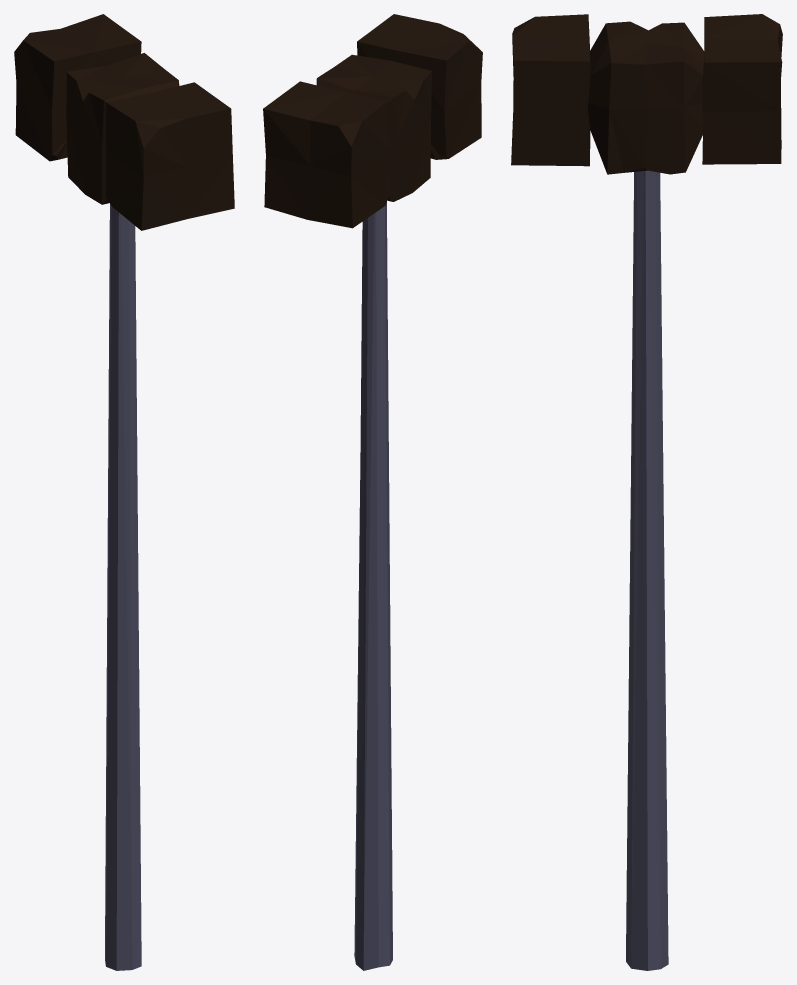
File: SFFA_Hammer_001.fbx
3 views of the same model, side by side, from view 1: azimuth 30°, elevation 25°; view 2: azimuth 150°, elevation 25°; view 3: azimuth 270°, elevation 25° (orthographic). The views are drawn at different scales.
Visible parts, largest first — view 1: SFFA_Hammer_001; view 2: SFFA_Hammer_001; view 3: SFFA_Hammer_001.
Part boxes in pixels (x1,y1,x2,y2): SFFA_Hammer_001: [14, 14, 234, 970]; SFFA_Hammer_001: [263, 14, 482, 970]; SFFA_Hammer_001: [511, 14, 782, 970].
Bounding box in the file's own units: 10.88 × 102 × 27.07.
